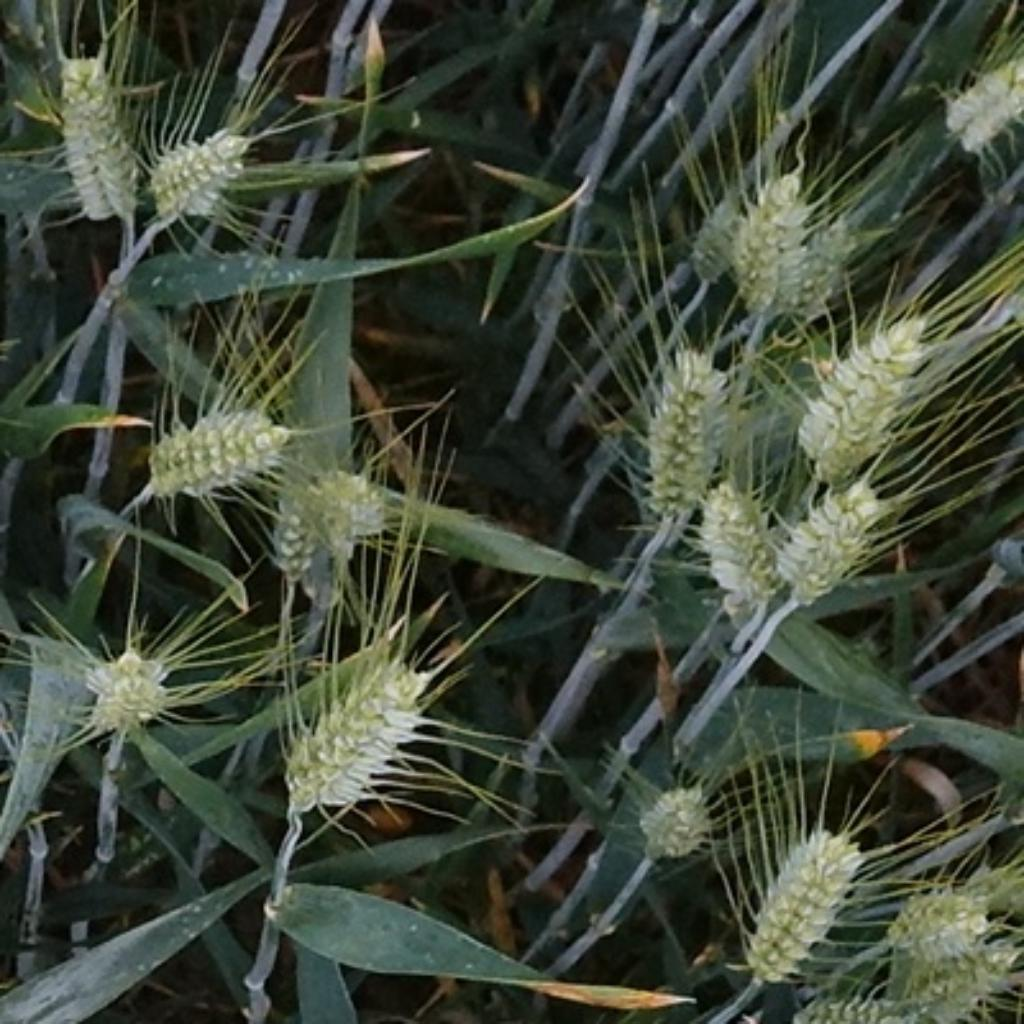0-0: (263, 637, 440, 819), (793, 311, 942, 470), (625, 335, 737, 535), (734, 811, 865, 980), (42, 40, 148, 233), (765, 465, 890, 622), (131, 395, 295, 510), (732, 140, 816, 312), (79, 632, 186, 747), (691, 471, 778, 611), (139, 121, 257, 224), (785, 204, 875, 327), (878, 872, 995, 960), (266, 437, 330, 596), (931, 51, 1024, 156), (896, 949, 1024, 1021), (629, 770, 720, 864), (683, 179, 755, 291), (320, 462, 403, 552), (785, 977, 916, 1024)
